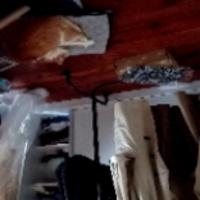asleep: (0, 13, 95, 65)
